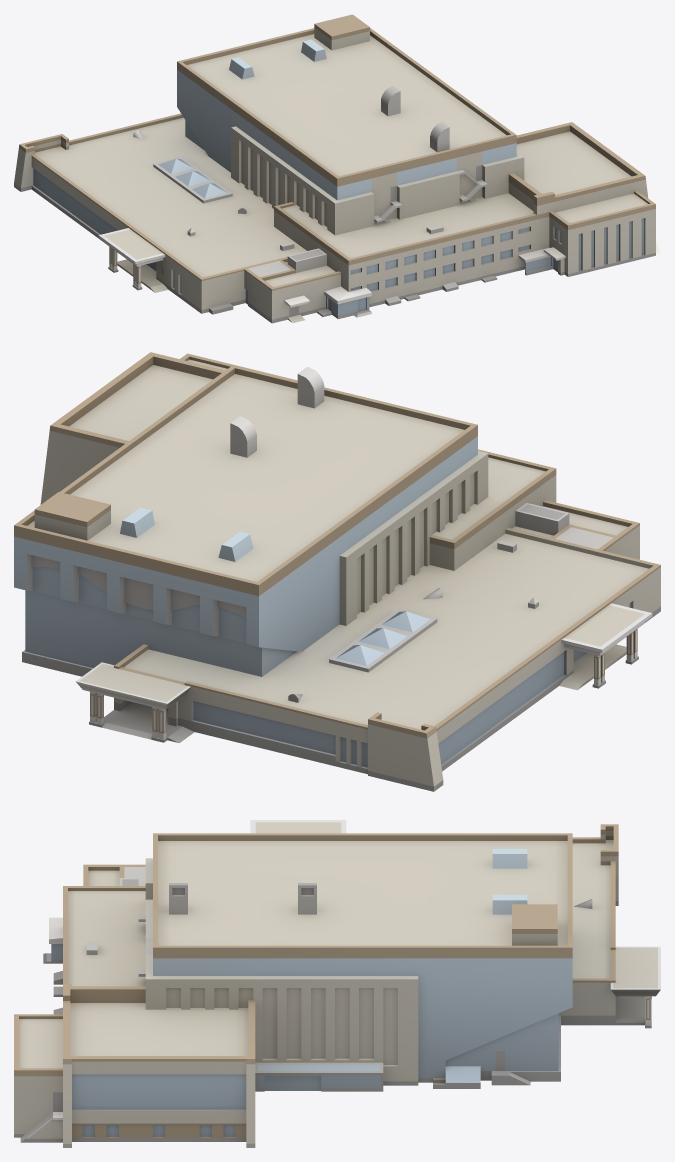
The model's file is filarmonic.glb.
3 renders of one model, top to bottom at view 1: azimuth 30°, elevation 25°; view 2: azimuth 150°, elevation 25°; view 3: azimuth 270°, elevation 25°, orthographic. The views are drawn at different scales.
Visible parts, largest first — view 1: philharmonic; view 2: philharmonic; view 3: philharmonic.
Part boxes in pixels (<box>): philharmonic: <box>14,14,660,323</box>; philharmonic: <box>14,352,660,791</box>; philharmonic: <box>14,820,660,1147</box>.
Size of the model in its own units: 71.73 by 18.6 by 68.77.
Materials: 1 (1 with a texture image).
